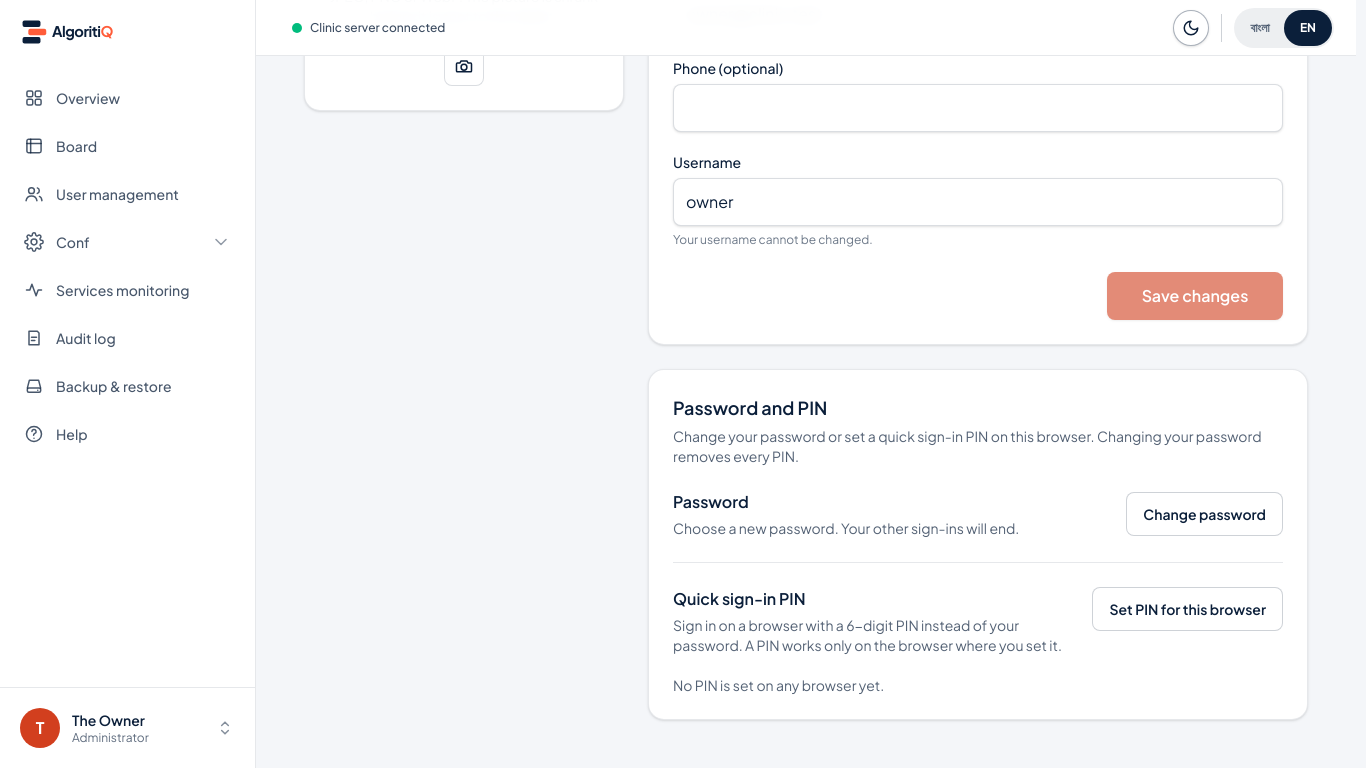
Test: PIN card in settings › setting a PIN (popup) › should refuse an obvious PIN before asking the tablet
The width and height of the screenshot is (1366, 768).
(page scrolled)
Check: the heading "Password and PIN" is shown, box [673,396,827,419]
Click the button "Set PIN for this browser". click: (1188, 609)
box: [1092,587,1283,631]
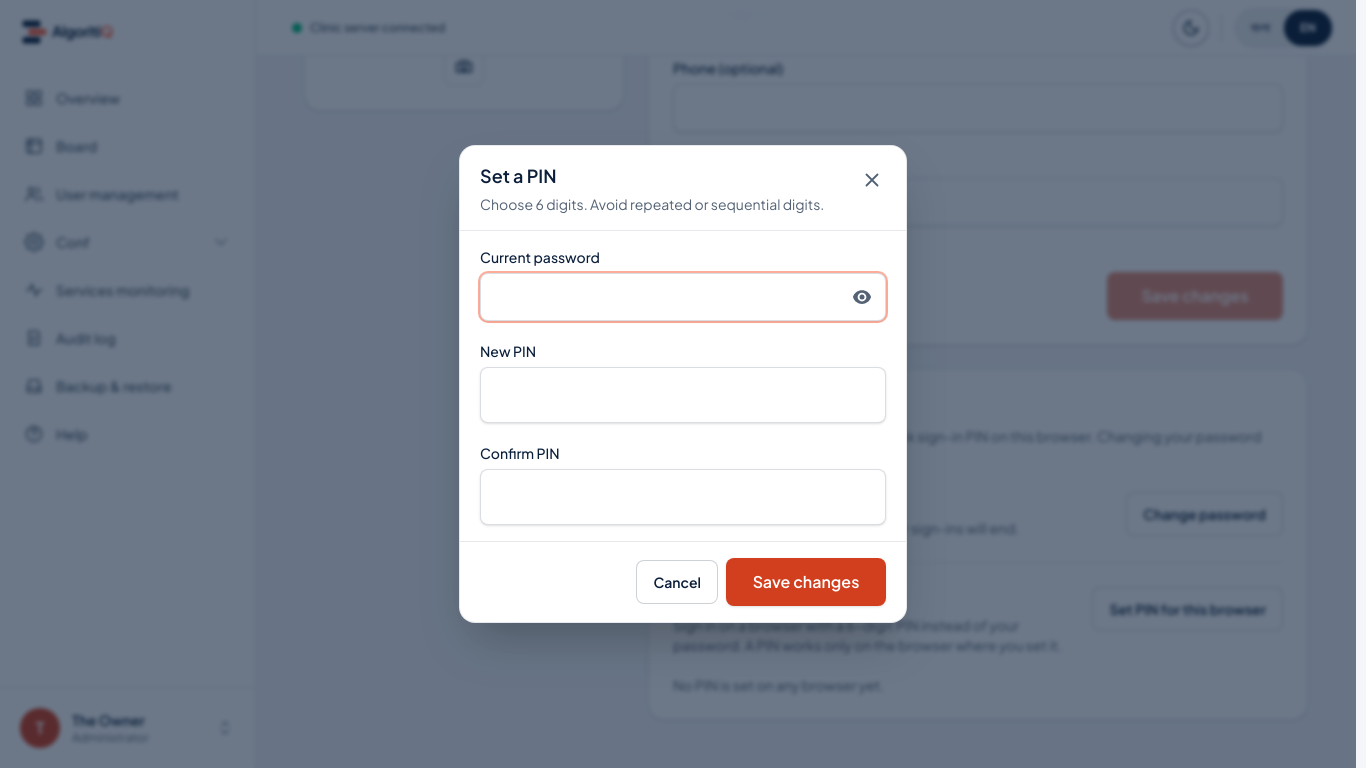
Type "a-long-passphrase" into the password field labelled "Current password". click: (683, 297)
box: [480,273,886,321]
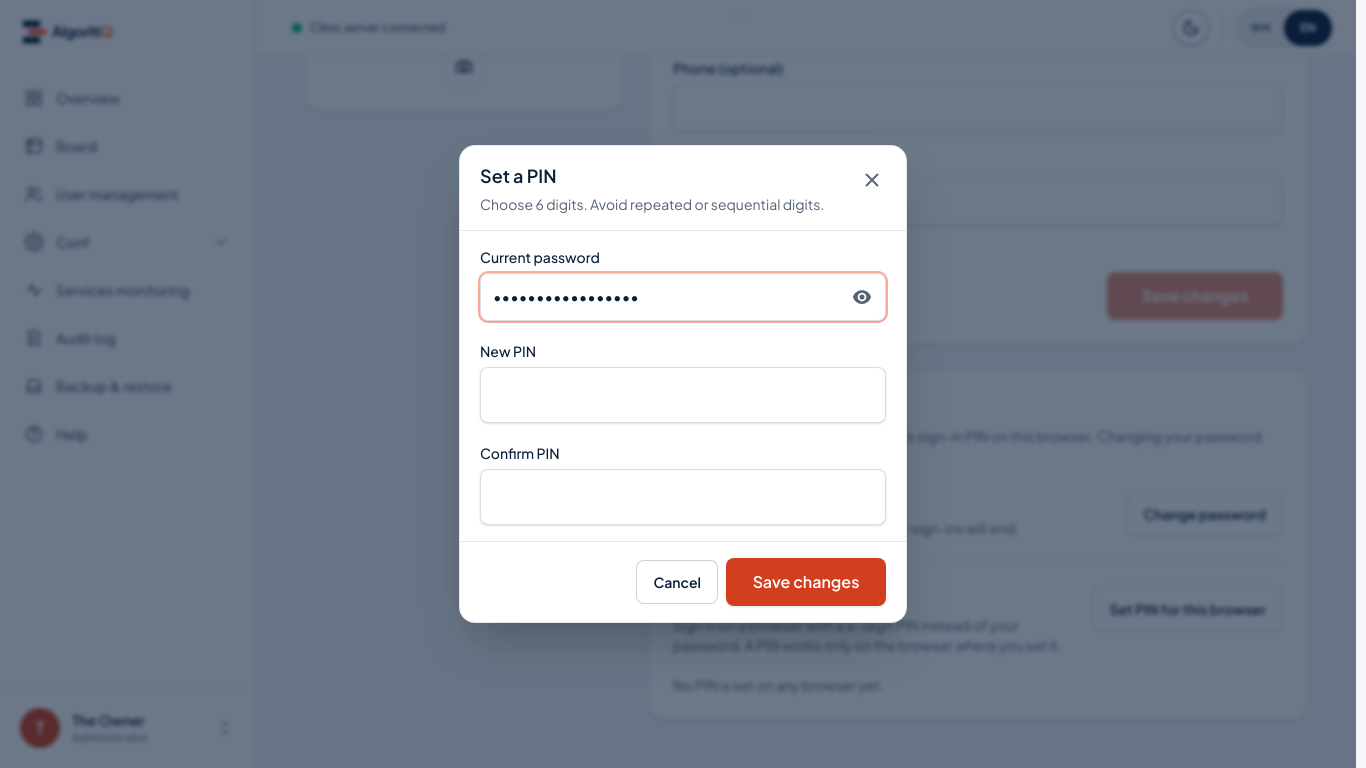
Type "123456" into the password field labelled "New PIN". click: (683, 395)
box: [480,367,886,423]
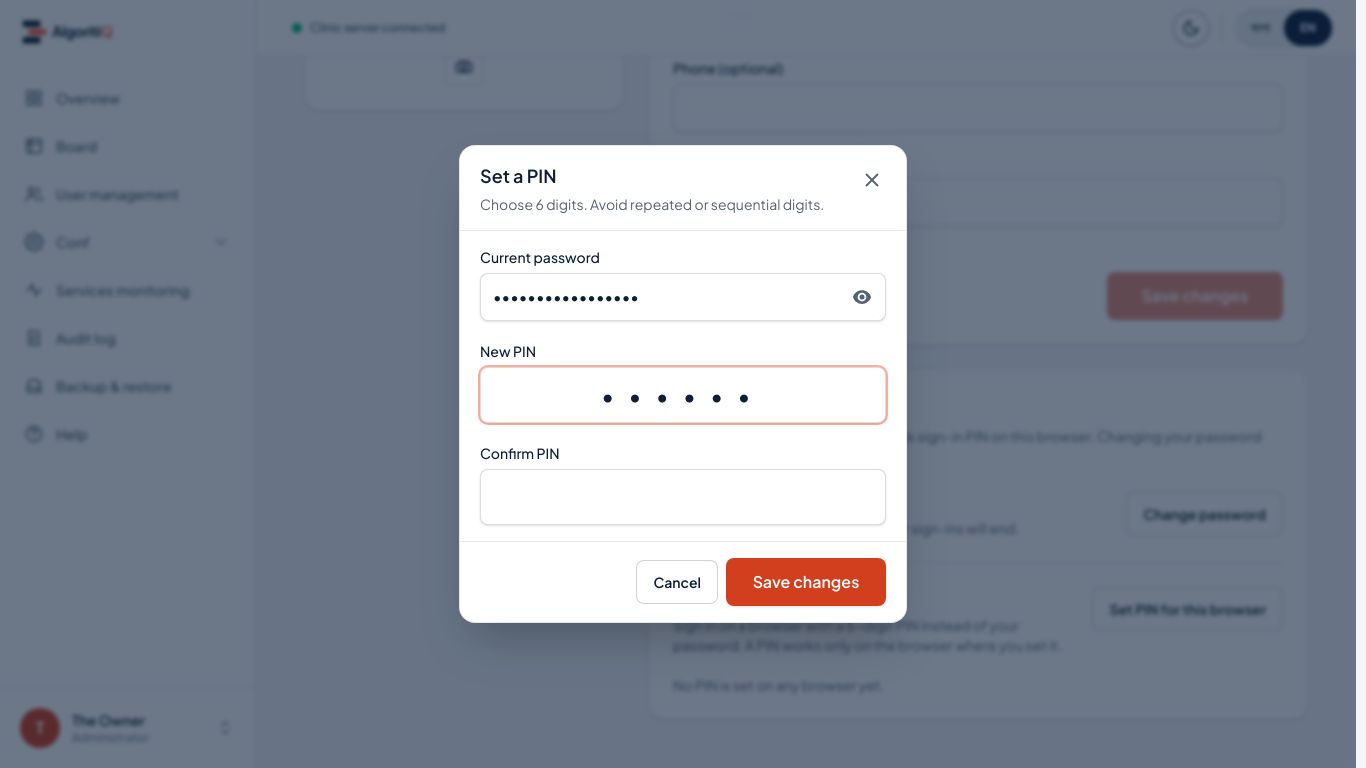
Type "123456" into the password field labelled "Confirm PIN". click: (683, 497)
box: [480,469,886,525]
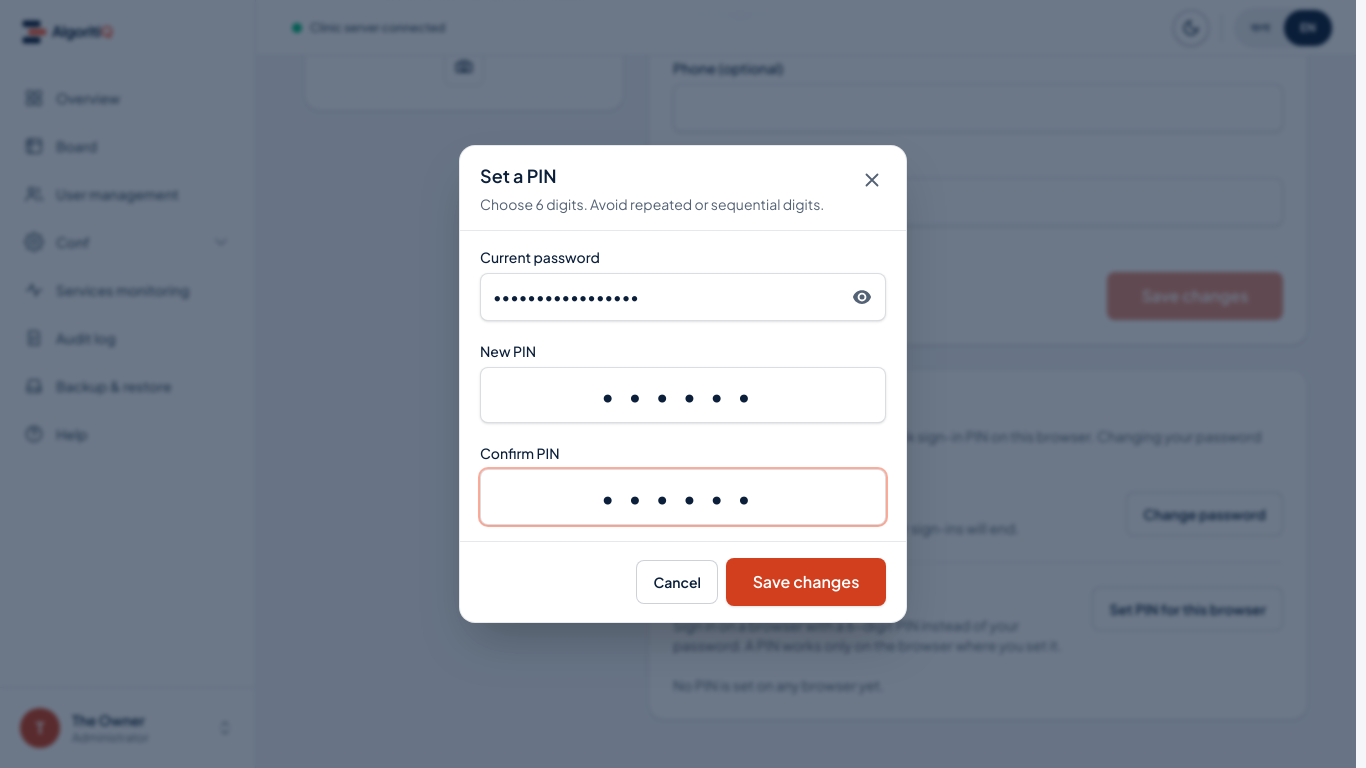
Click the button "Save changes". click: (806, 582)
box: [726,558,886,606]
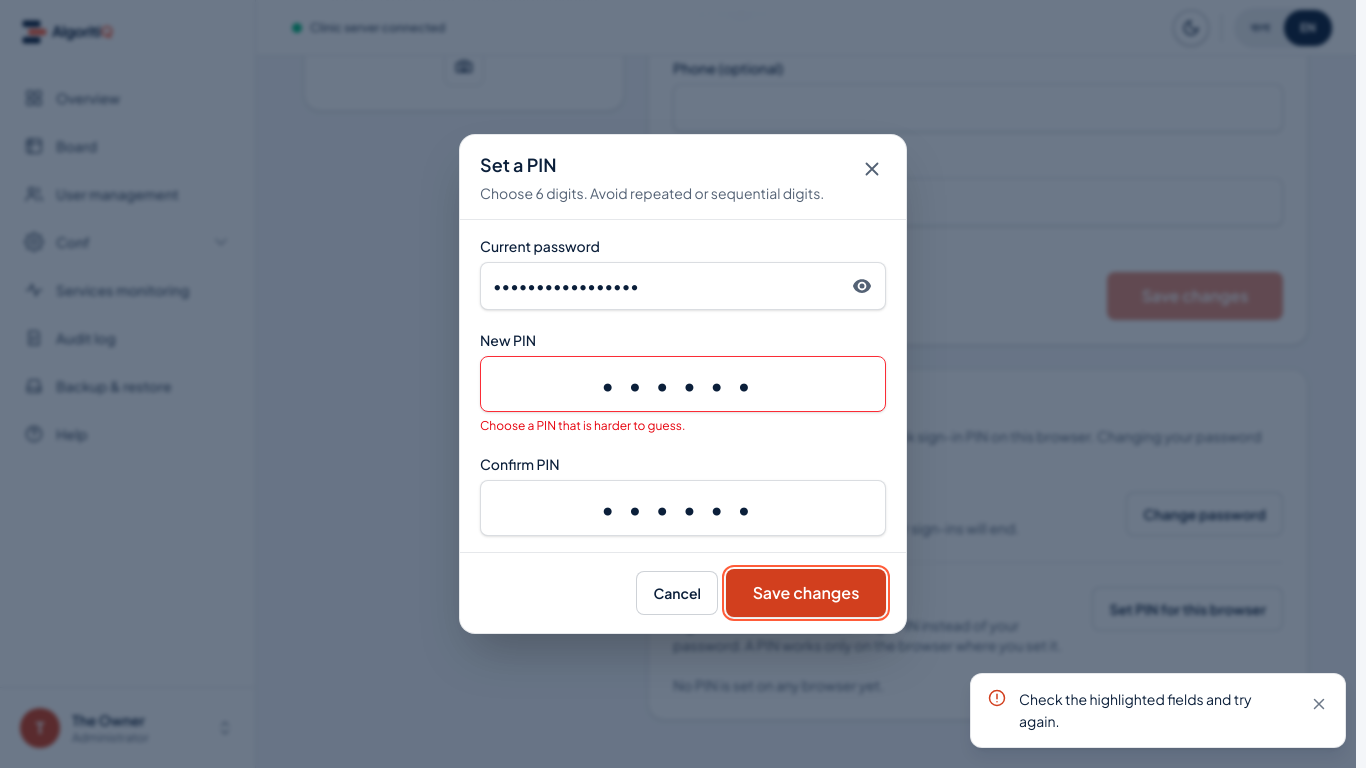
Check: the text "Choose a PIN that is harder to guess." is shown, box [480,418,685,433]
Check: the text "Check the highlighted fields and try again." is shown, box [1019,686,1289,735]
